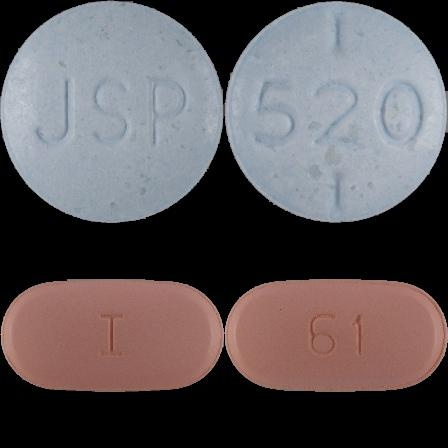63187-569: (0, 0, 224, 224)
